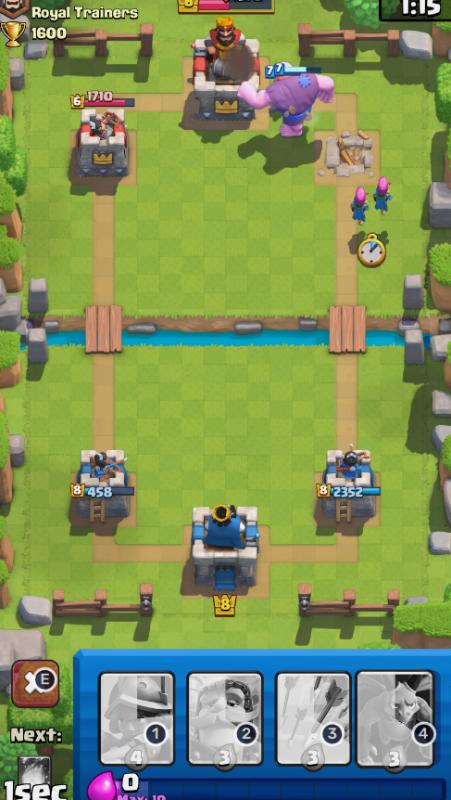archere: (344, 181, 379, 234), (377, 175, 398, 215)
geant: (237, 54, 343, 147)
